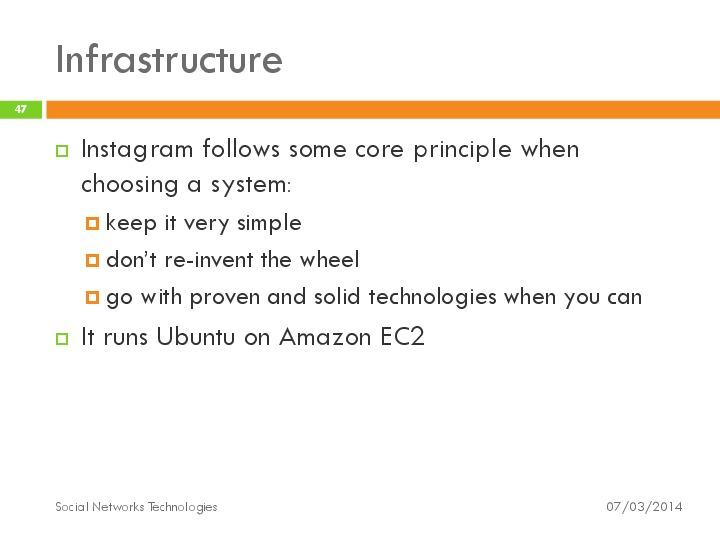paragraph: (45, 126, 675, 366)
title: (43, 36, 295, 90)
